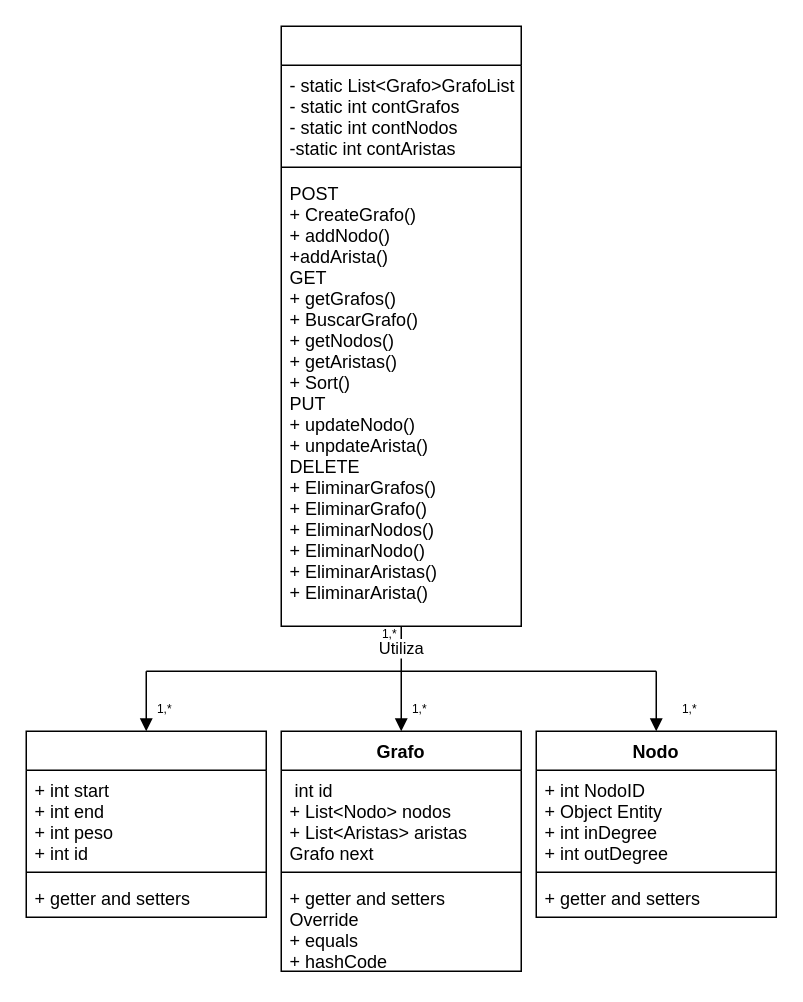
The diagram is 803 pixels wide and 1002 high, and some of its shapes have lost their labels. Each missing label, with the box of its shape:
Aristas: (25, 730, 266, 917)
GrafoServicio: (280, 25, 521, 626)
